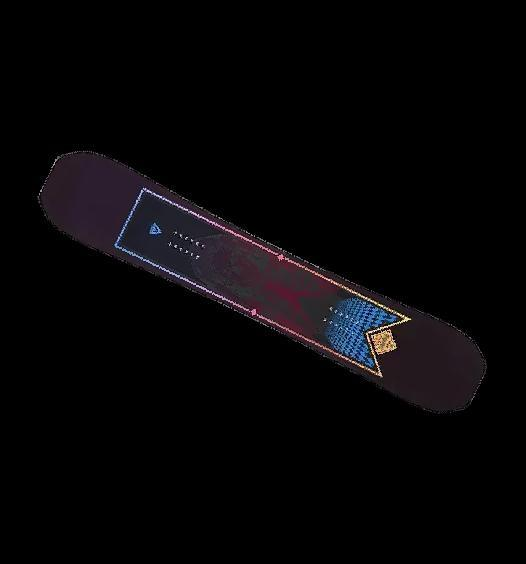Snowboard: (37, 149, 487, 414)
